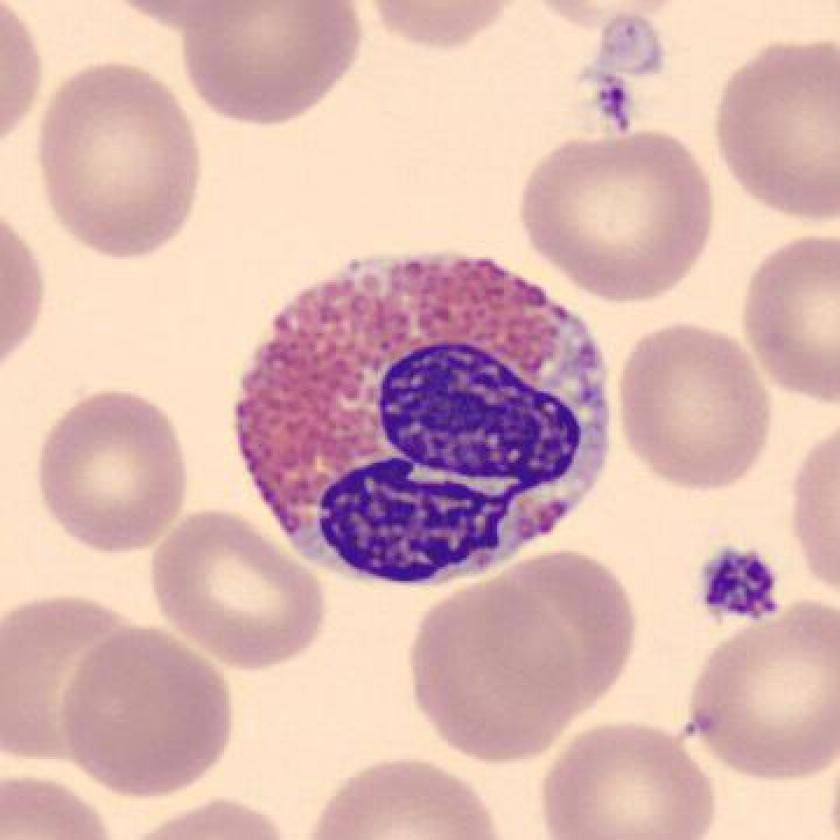eosinophil: (227, 239, 622, 605)
